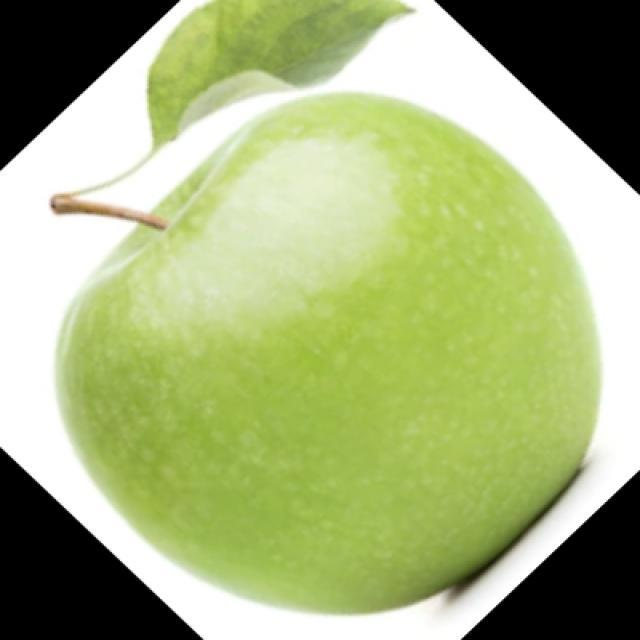Fresh Apple: (50, 88, 602, 610)
